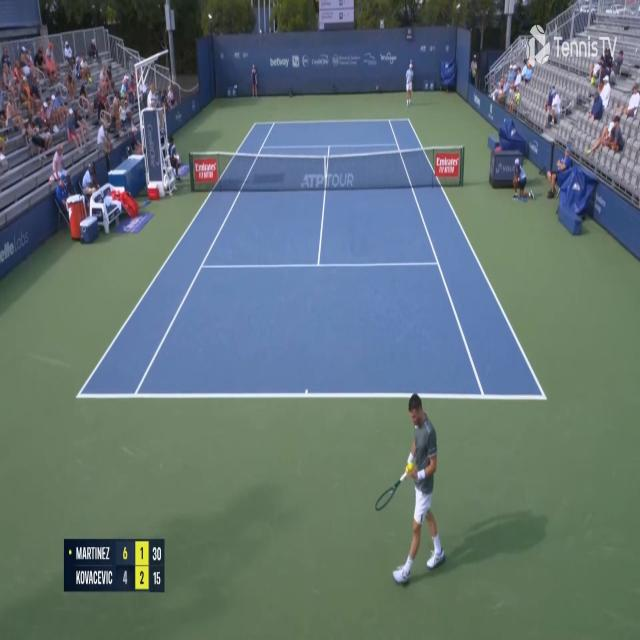tennis-player: (374, 387, 447, 588)
